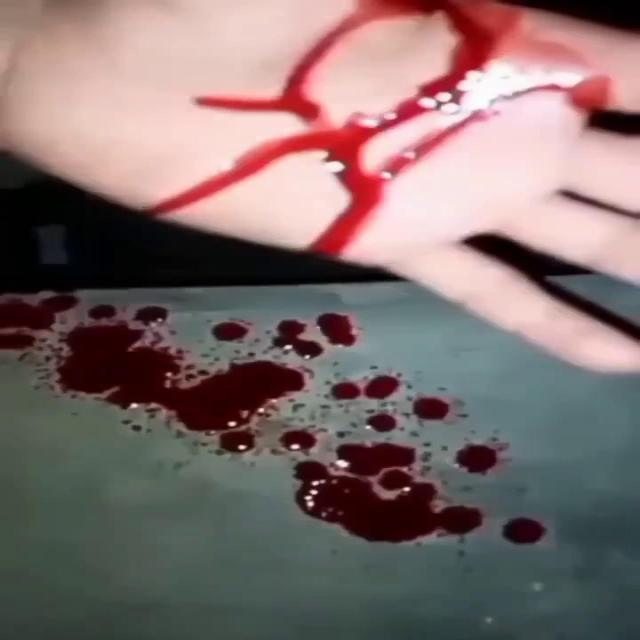knife: (292, 462, 484, 544), (172, 360, 307, 434), (312, 126, 388, 216), (53, 345, 186, 395), (441, 31, 505, 128), (348, 78, 453, 131), (137, 169, 240, 222), (280, 23, 354, 95), (356, 0, 495, 33), (236, 128, 315, 185), (390, 125, 467, 180), (193, 91, 321, 124), (305, 202, 373, 263), (0, 294, 82, 333), (334, 440, 419, 477), (268, 318, 325, 362), (497, 513, 555, 554), (106, 381, 185, 411), (449, 439, 505, 481), (67, 322, 144, 350), (317, 305, 360, 349), (409, 392, 456, 424), (131, 301, 174, 331), (280, 423, 319, 455), (210, 318, 251, 346), (365, 370, 401, 401), (363, 406, 398, 434), (377, 468, 416, 493), (221, 429, 257, 456), (83, 301, 122, 325), (329, 376, 363, 403), (0, 332, 38, 352)
